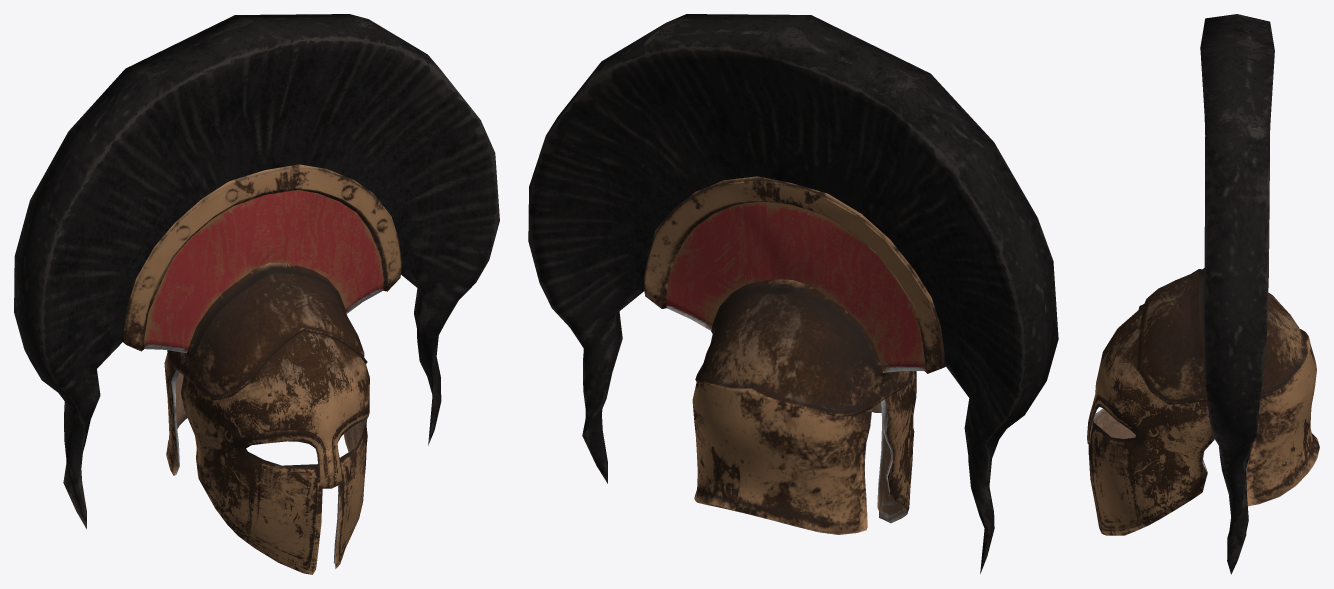
3 views of the same model, side by side, from view 1: azimuth 30°, elevation 25°; view 2: azimuth 150°, elevation 25°; view 3: azimuth 270°, elevation 25° (orthographic). The views are drawn at different scales.
Visible parts, largest first — view 1: HopliteHelmet_LOD0; view 2: HopliteHelmet_LOD0; view 3: HopliteHelmet_LOD0.
Part boxes in pixels (x1,y1,x2,y2): HopliteHelmet_LOD0: (14, 14, 499, 574); HopliteHelmet_LOD0: (528, 14, 1058, 573); HopliteHelmet_LOD0: (1087, 14, 1319, 574).
Bounding box in the file's own units: 0.5548 × 0.5657 × 0.2462.
1 material, 1 textured.
